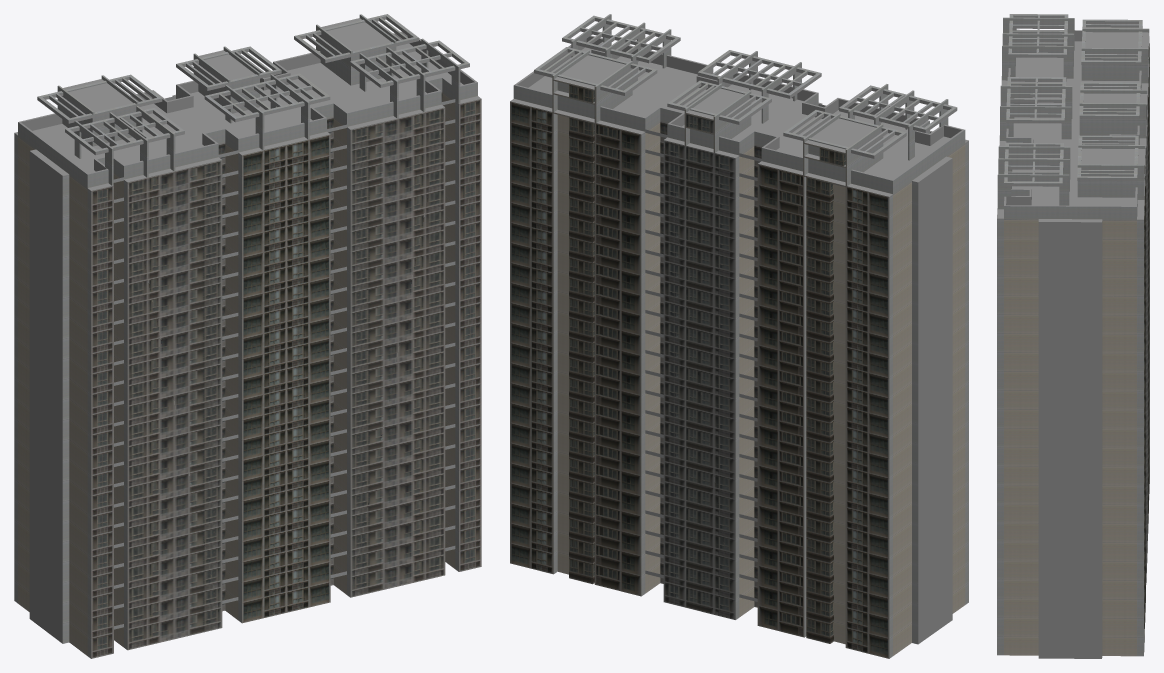
Rendered from side building26.FBX.
3 views of the same model, side by side, from view 1: azimuth 30°, elevation 25°; view 2: azimuth 150°, elevation 25°; view 3: azimuth 270°, elevation 25° (orthographic). The views are drawn at different scales.
Visible parts, largest first — view 1: 尚品国际259; view 2: 尚品国际259; view 3: 尚品国际259.
Boxes of the visible parts, x1=… form: 尚品国际259: x1=14, y1=14, x2=481, y2=658; 尚品国际259: x1=510, y1=14, x2=968, y2=658; 尚品国际259: x1=997, y1=14, x2=1149, y2=658.
Size of the model in its own units: 62.01 by 21.95 by 74.57.
